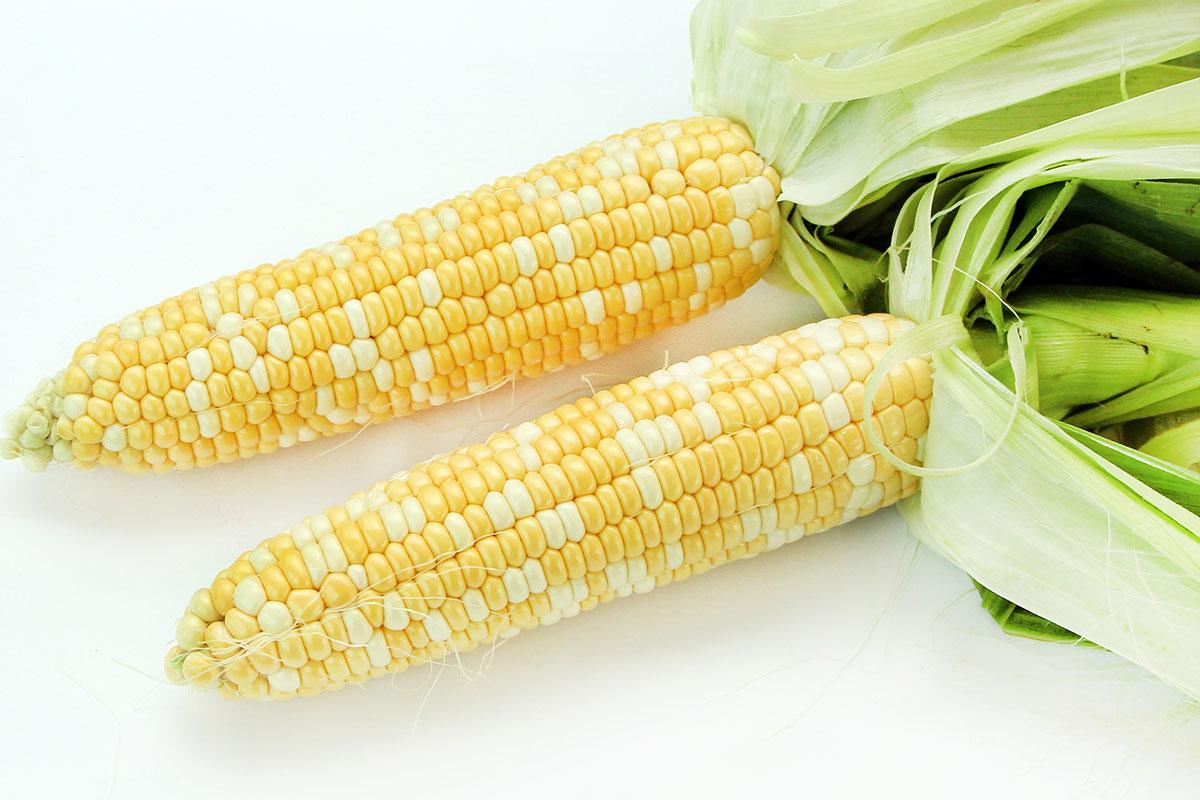corn: (164, 309, 976, 701), (1, 113, 784, 476)
